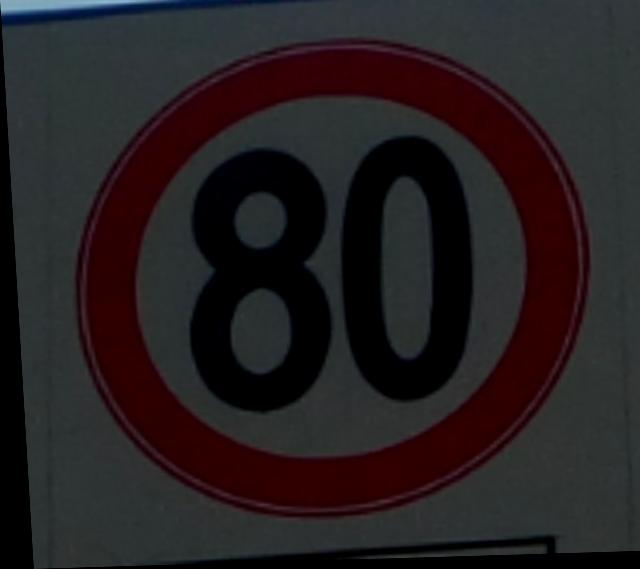limit80: (46, 21, 609, 540)
